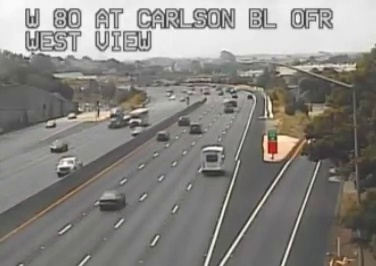bus: (201, 146, 224, 174)
car: (99, 191, 124, 209), (155, 131, 168, 142)
